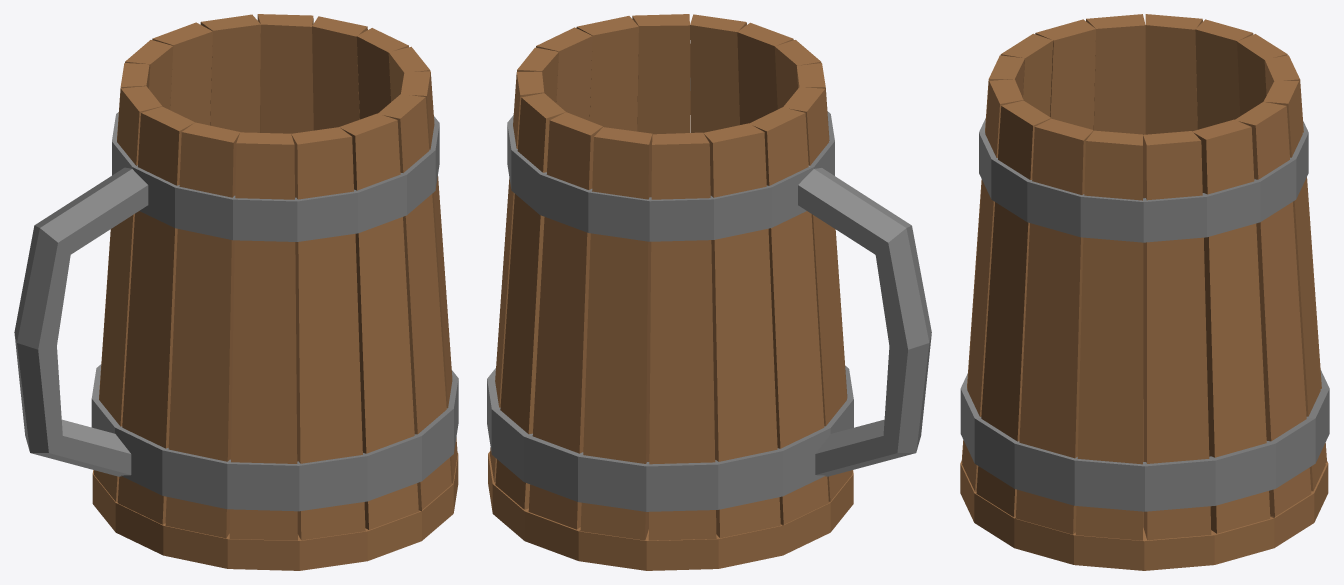
Rendered from Mug.fbx.
3 views of the same model, side by side, from view 1: azimuth 30°, elevation 25°; view 2: azimuth 150°, elevation 25°; view 3: azimuth 270°, elevation 25° (orthographic).
Visible parts, largest first — view 1: Cylinder; view 2: Cylinder; view 3: Cylinder.
Boxes of the visible parts, x1,y1,x2,y2 form: Cylinder: [14, 14, 458, 570]; Cylinder: [487, 14, 931, 570]; Cylinder: [960, 14, 1329, 570].
Size of the model in its own units: 17.77 by 16.81 by 13.61.
